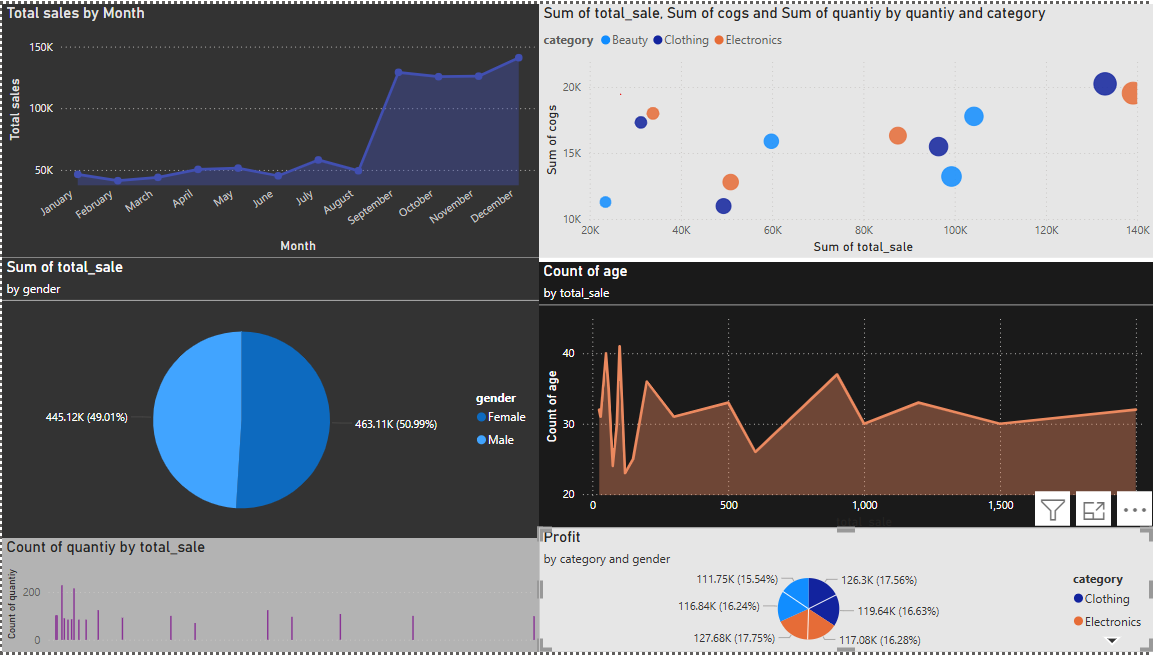

The page's visual inventory and layout, read from the dashboard file:
{"tool":"powerbi","page":{"name":"Page 1","canvas":[1280,720],"ordinal":0},"visuals":[{"type":"stackedAreaChart","fields":{"Category":["sql_project_p1 retail_sales.sale_date.Variation.Date Hierarchy.Month","sql_project_p1 retail_sales.sale_date.Variation.Date Hierarchy.Day"],"Y":["sql_project_p1 retail_sales.Total sales"]},"box":[0,0,596.7,281.1],"z":1},{"type":"pieChart","fields":{"Category":["sql_project_p1 retail_sales.gender"],"Y":["Sum(sql_project_p1 retail_sales.total_sale)"]},"box":[0,281.7,596.7,311.7],"z":2},{"type":"stackedAreaChart","fields":{"Category":["sql_project_p1 retail_sales.total_sale"],"Y":["Count(sql_project_p1 retail_sales.age)"]},"box":[597.1,287.1,682.9,300],"z":3},{"type":"scatterChart","fields":{"Y":["Sum(sql_project_p1 retail_sales.cogs)"],"X":["Sum(sql_project_p1 retail_sales.total_sale)"],"Series":["sql_project_p1 retail_sales.category"],"Size":["Sum(sql_project_p1 retail_sales.quantiy)"],"Category":["sql_project_p1 retail_sales.quantiy"]},"box":[596.7,0,683.3,281.7],"z":4},{"type":"pieChart","fields":{"Y":["sql_project_p1 retail_sales.Profit"],"Series":["sql_project_p1 retail_sales.gender"],"Category":["sql_project_p1 retail_sales.category"]},"box":[596.7,581.7,683.3,138.3],"z":5},{"type":"columnChart","fields":{"Category":["sql_project_p1 retail_sales.total_sale"],"Y":["CountNonNull(sql_project_p1 retail_sales.quantiy)"]},"box":[0,593.3,596.7,126.7],"z":6}]}

Visuals, with their boxes in screenshot pixels (x1, y1, x2, y2), scaled from the page's 1280x720 canvas onto the 1153x655 screenshot:
stackedAreaChart - sql_project_p1 retail_sales.sale_date.Variation.Date Hierarchy.Month x sql_project_p1 retail_sales.sale_date.Variation.Date Hierarchy.Day: crop(0, 0, 537, 256)
pieChart - sql_project_p1 retail_sales.gender x Sum(sql_project_p1 retail_sales.total_sale): crop(0, 256, 537, 540)
stackedAreaChart - sql_project_p1 retail_sales.total_sale x Count(sql_project_p1 retail_sales.age): crop(538, 261, 1152, 534)
scatterChart - Sum(sql_project_p1 retail_sales.cogs) x Sum(sql_project_p1 retail_sales.total_sale): crop(537, 0, 1152, 256)
pieChart - sql_project_p1 retail_sales.Profit x sql_project_p1 retail_sales.gender: crop(537, 529, 1152, 654)
columnChart - sql_project_p1 retail_sales.total_sale x CountNonNull(sql_project_p1 retail_sales.quantiy): crop(0, 540, 537, 654)
